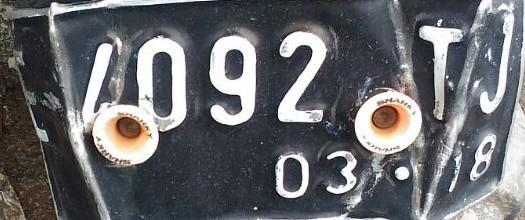clone-license-plate: (7, 0, 523, 219)
